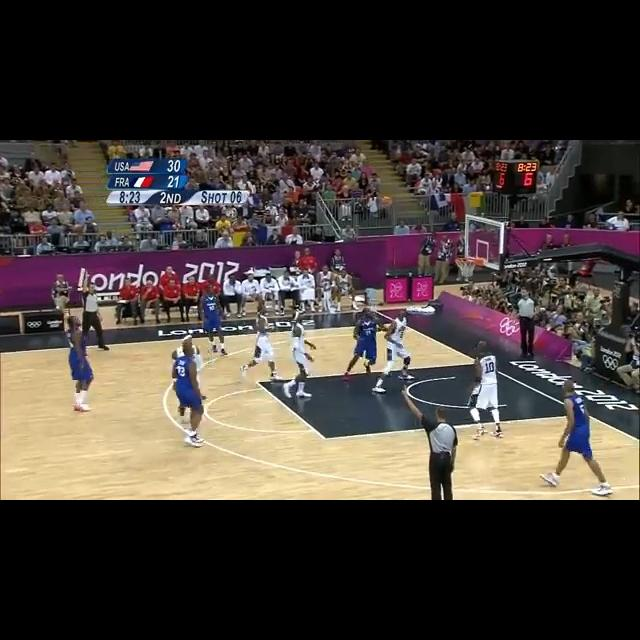hoop: (456, 256, 478, 279)
